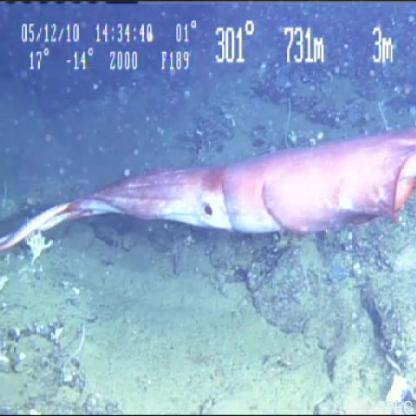Bio: (1, 127, 416, 252), (22, 225, 53, 267)
